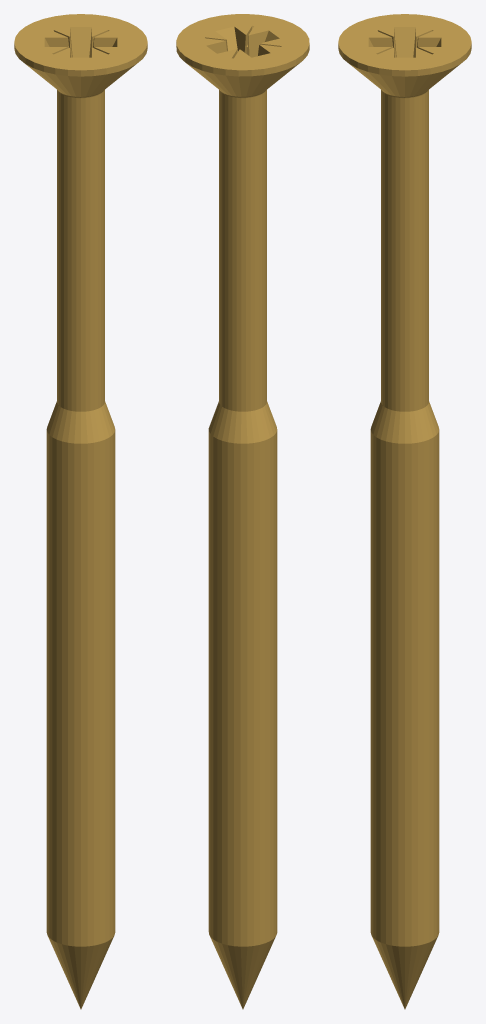
Rendered from model_display.glb.
3 renders of one model, left to right at view 1: azimuth 90°, elevation 25°; view 2: azimuth 210°, elevation 25°; view 3: azimuth 270°, elevation 25°, orthographic.
Parts seen in each view (by area): view 1: geometry_0; view 2: geometry_0; view 3: geometry_0.
Boxes of the visible parts, <box> form: geometry_0: <box>14,14,147,1009</box>; geometry_0: <box>176,14,309,1009</box>; geometry_0: <box>338,14,471,1009</box>.
Bounding box in the file's own units: 0.00875 × 0.07 × 0.00875.
